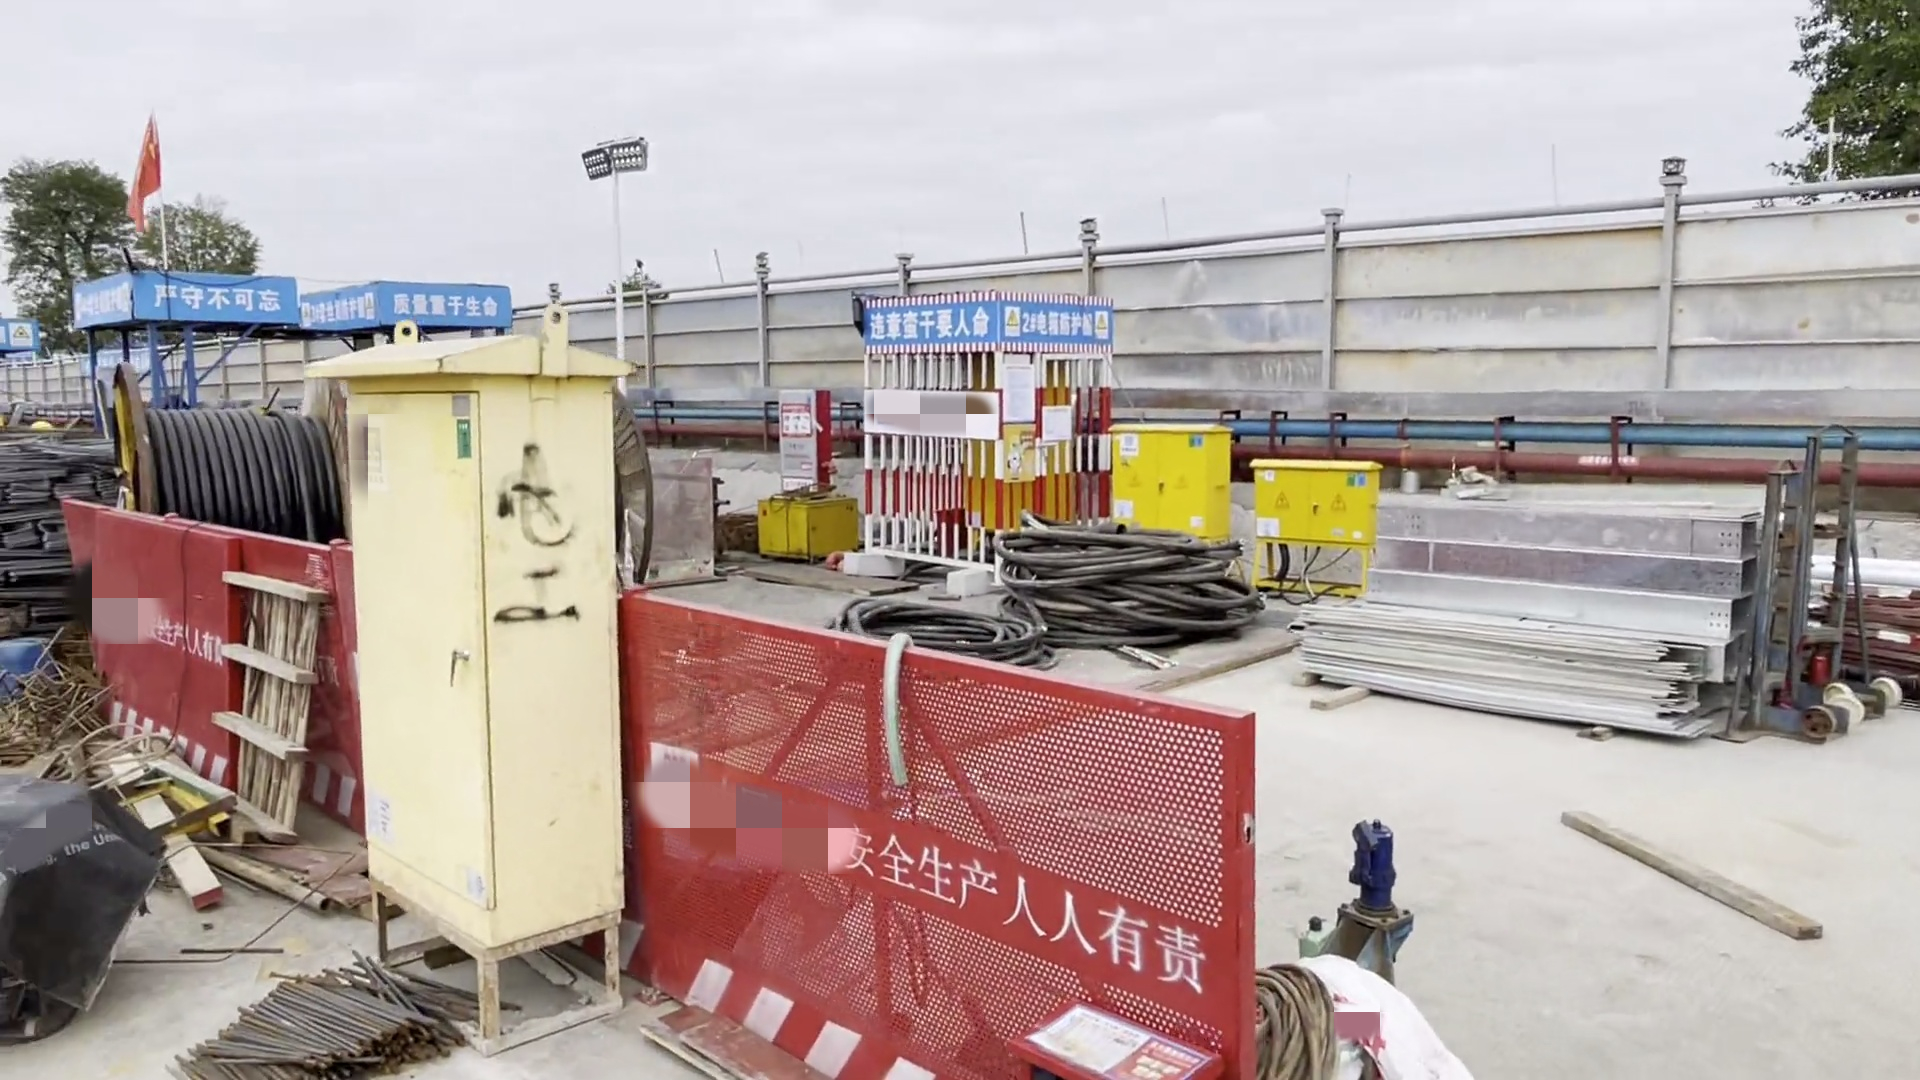ebox: (315, 331, 611, 1033), (1251, 458, 1375, 611), (967, 349, 1067, 531), (1116, 417, 1220, 553)
fence: (609, 585, 1261, 1079), (61, 500, 367, 836)
rebar: (194, 967, 442, 1080)
slogan: (135, 268, 298, 324), (295, 289, 513, 322), (860, 295, 997, 339), (7, 322, 32, 348), (1002, 305, 1021, 339), (1093, 313, 1105, 338)
